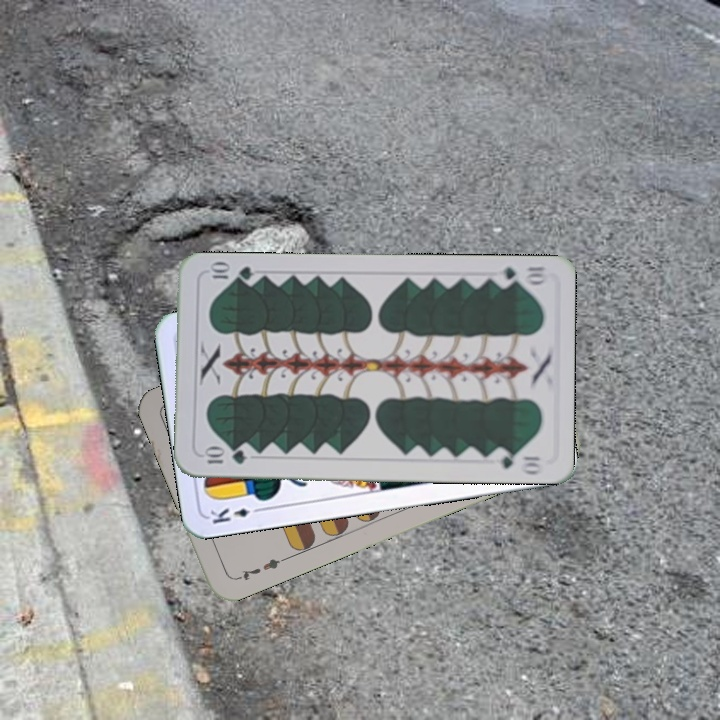E7: (232, 553, 288, 583)
EK: (206, 503, 266, 527)
G10: (490, 262, 549, 289), (198, 445, 249, 467)
